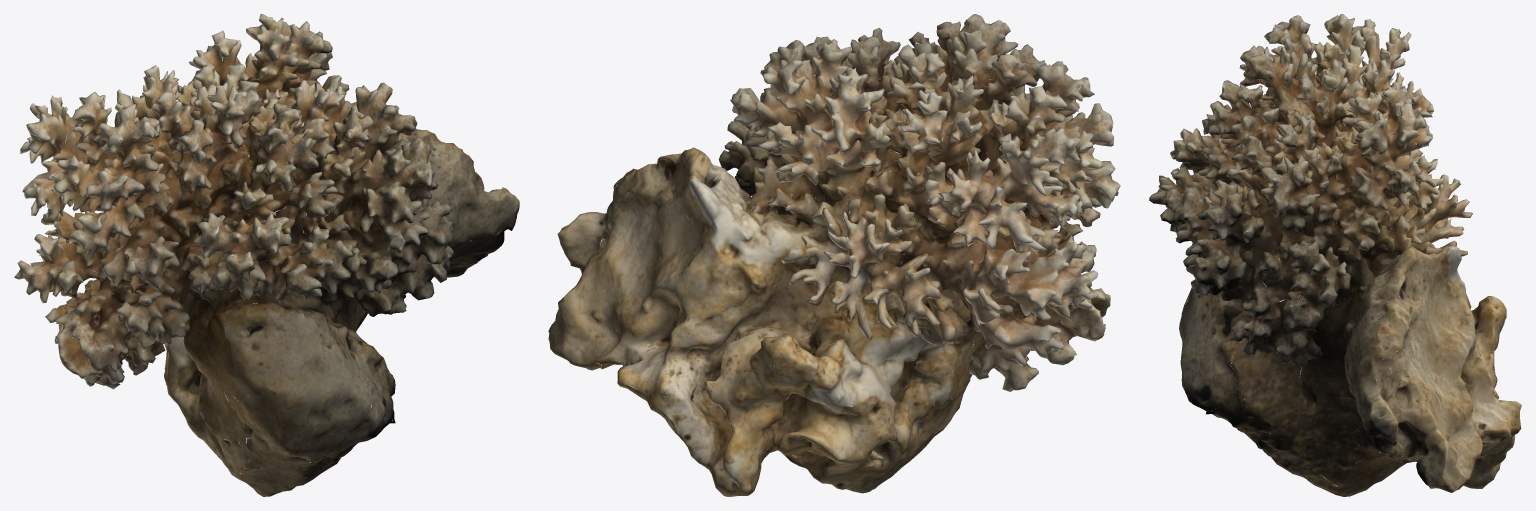
File: bush.glb
3 views of the same model, side by side, from view 1: azimuth 30°, elevation 25°; view 2: azimuth 150°, elevation 25°; view 3: azimuth 270°, elevation 25° (orthographic). The views are drawn at different scales.
Visible parts, largest first — view 1: Smithsonian scan — bush; view 2: Smithsonian scan — bush; view 3: Smithsonian scan — bush.
Part boxes in pixels (bbox=[...]): Smithsonian scan — bush: bbox=[14, 14, 519, 496]; Smithsonian scan — bush: bbox=[548, 14, 1120, 496]; Smithsonian scan — bush: bbox=[1149, 14, 1521, 496].
Bounding box in the file's own units: 1 × 0.8419 × 0.6931.
1 material, 1 textured.
